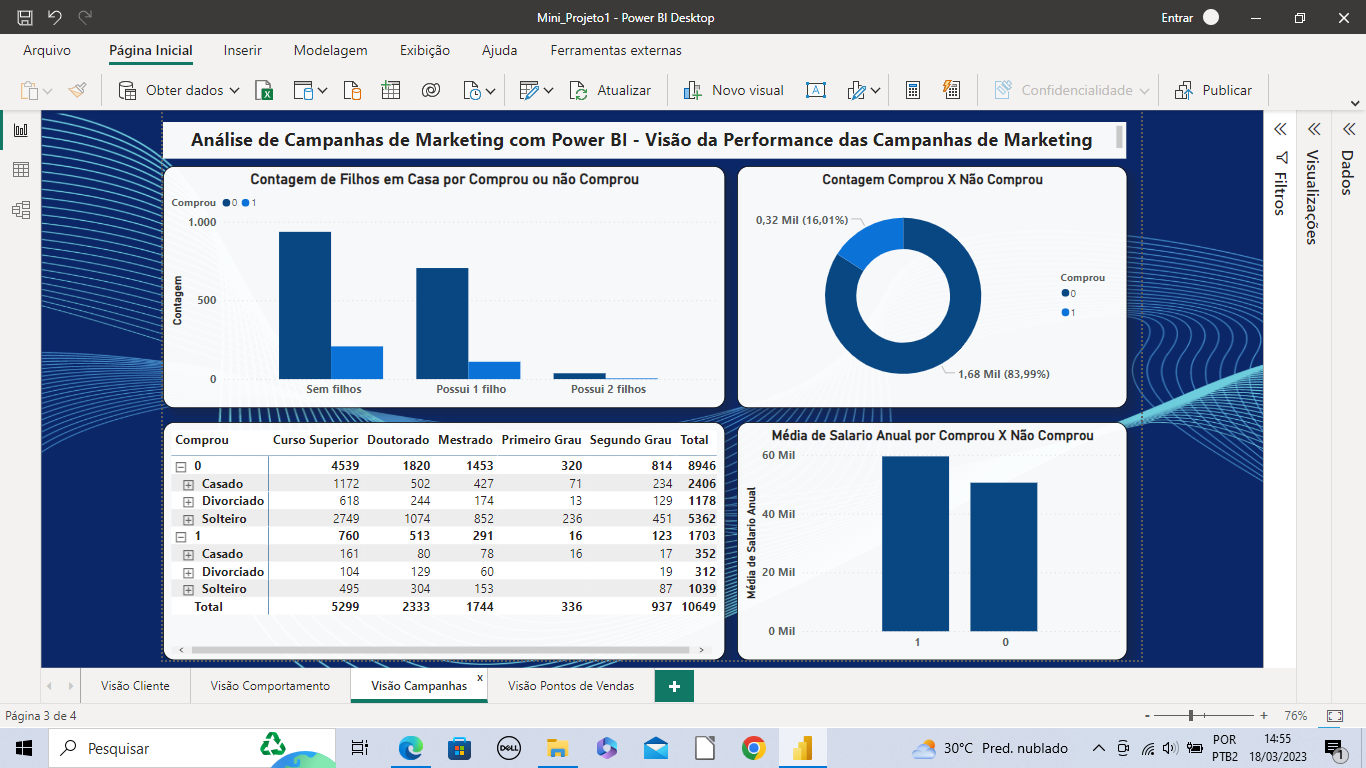

What the dashboard file says about the page in this screenshot:
{"tool":"powerbi","page":{"name":"Visão Campanhas","canvas":[1280,720],"ordinal":2},"visuals":[{"type":"donutChart","title":"Contagem Comprou X Não Comprou","fields":{"Category":["DadosMarketing.Comprou"],"Y":["CountNonNull(DadosMarketing.ID)"]},"box":[751.4,73.3,510.5,316.8],"z":0},{"type":"textbox","box":[0,15.8,1261.4,47.5],"z":1000},{"type":"clusteredColumnChart","title":"Média de Salario Anual por Comprou X Não Comprou","fields":{"Category":["DadosMarketing.Comprou"],"Y":["Avg(DadosMarketing.Salario Anual)"]},"box":[751.4,408.4,510.5,311.6],"z":2000},{"type":"pivotTable","fields":{"Rows":["DadosMarketing.Comprou","DadosMarketing.Estado Civil","DadosMarketing.Pais"],"Values":["Sum(DadosMarketing.Numero Visitas WebSite Mes)"],"Columns":["DadosMarketing.Escolaridade"]},"box":[0,408.4,735.7,311.6],"z":3000},{"type":"clusteredColumnChart","title":"Contagem de Filhos em Casa por Comprou ou não Comprou","fields":{"Series":["DadosMarketing.Comprou"],"Y":["CountNonNull(DadosMarketing.Filhos em Casa)"],"Category":["DadosMarketing.Filhos em Casa1"]},"box":[0,73.4,735.8,316.8],"z":4000}]}

Visuals, with their boxes on the page's 1280x720 design canvas (x1, y1, x2, y2). These are canvas units, not pixel positions in the 1366x768 screenshot, which may show the page scaled, cropped or inside an application window:
"Contagem Comprou X Não Comprou" donutChart: [x1=751, y1=73, x2=1262, y2=390]
textbox: [x1=0, y1=16, x2=1261, y2=63]
"Média de Salario Anual por Comprou X Não Comprou" clusteredColumnChart: [x1=751, y1=408, x2=1262, y2=720]
pivotTable - DadosMarketing.Comprou x DadosMarketing.Estado Civil: [x1=0, y1=408, x2=736, y2=720]
"Contagem de Filhos em Casa por Comprou ou não Comprou" clusteredColumnChart: [x1=0, y1=73, x2=736, y2=390]
